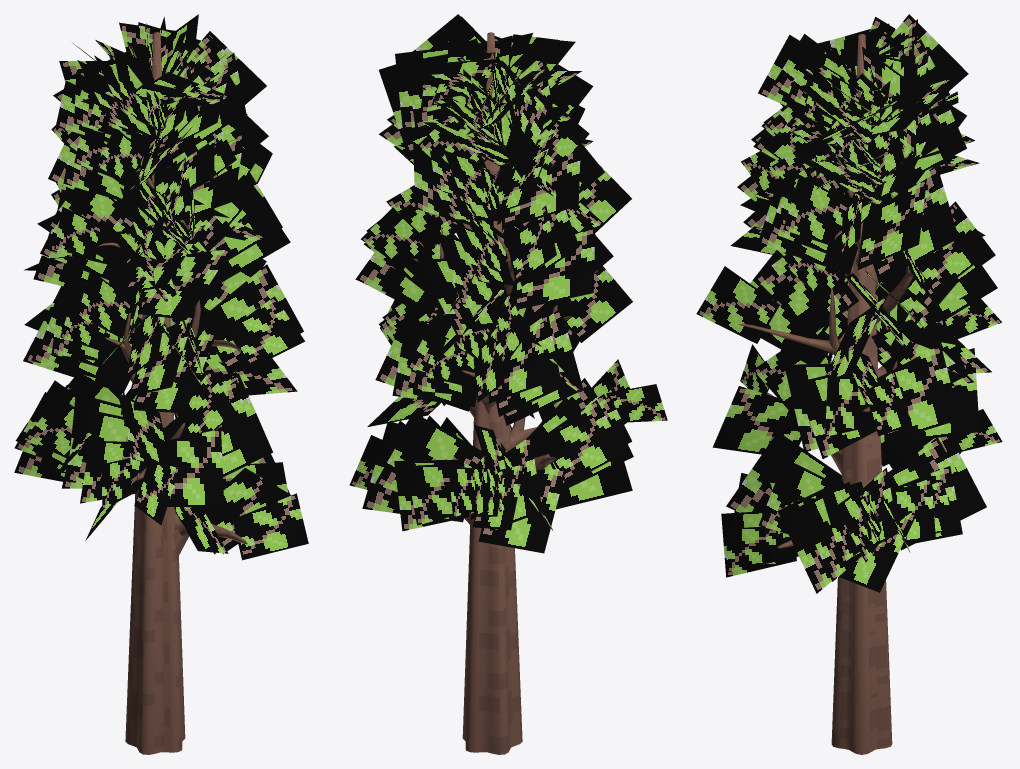
Rendered from plains_tree.obj.
The picture shows the model from 3 angles, left to right: view 1: azimuth 30°, elevation 25°; view 2: azimuth 150°, elevation 25°; view 3: azimuth 270°, elevation 25°; orthographic projection.
Visible parts, largest first — view 1: moyu_leaf1, moyu_trunk1; view 2: moyu_leaf1, moyu_trunk1; view 3: moyu_leaf1, moyu_trunk1.
Part boxes in pixels (x1,y1,x2,y2): moyu_leaf1: (14,14,308,560); moyu_trunk1: (97,32,247,754); moyu_leaf1: (349,14,667,553); moyu_trunk1: (413,32,571,754); moyu_leaf1: (696,14,1002,593); moyu_trunk1: (737,34,921,754).
Size of the model in its own units: 7.88 by 21.3 by 8.44.
Materials: 2 (2 with a texture image).
